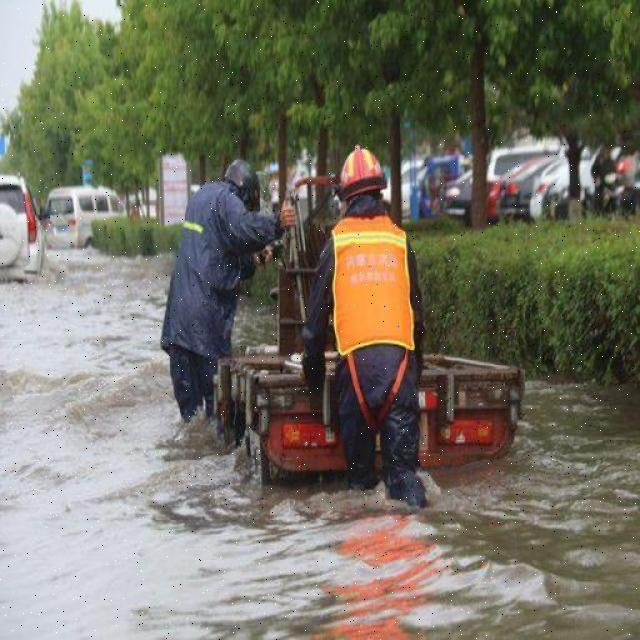rescuer: (322, 119, 466, 530), (162, 136, 274, 452)
